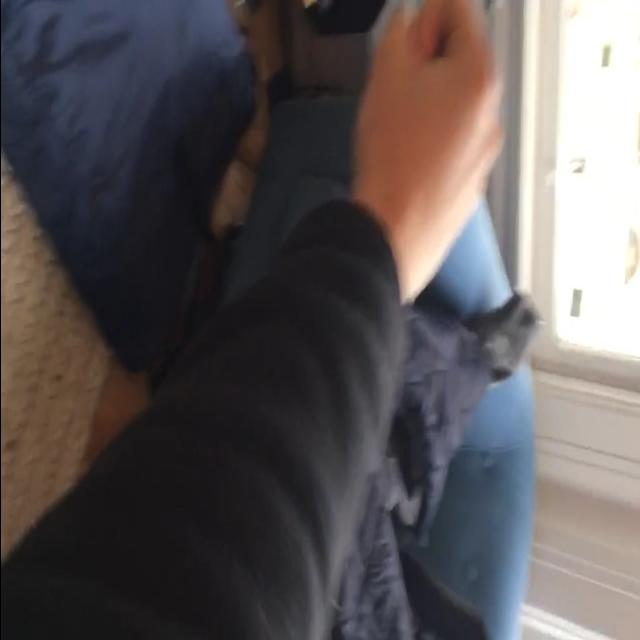Rock: (352, 0, 506, 266)
